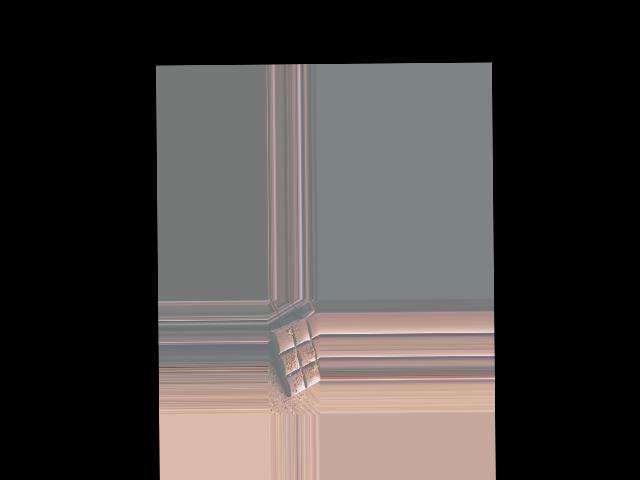chocolate: (271, 312, 319, 401)
